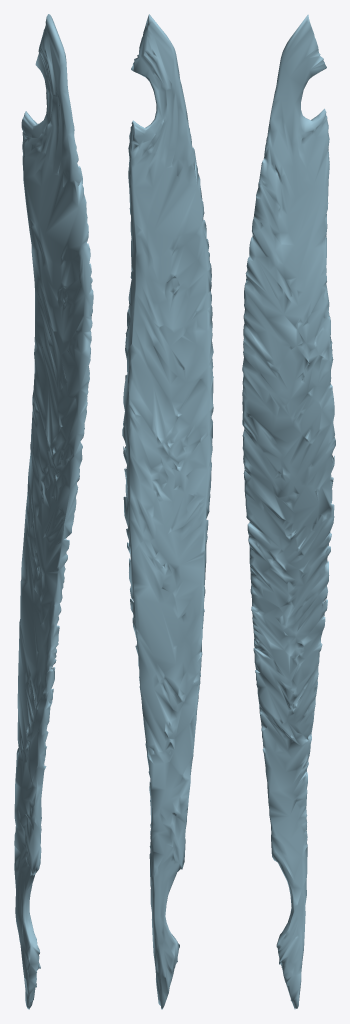
The model's file is articulacoes-interosseous-membrane-of-leg-l.glb.
3 views of the same model, side by side, from view 1: azimuth 90°, elevation 25°; view 2: azimuth 150°, elevation 25°; view 3: azimuth 330°, elevation 25° (orthographic). The views are drawn at different scales.
Visible parts, largest first — view 1: Interosseous membrane of leg.l; view 2: Interosseous membrane of leg.l; view 3: Interosseous membrane of leg.l.
Part boxes in pixels (x1=…): Interosseous membrane of leg.l: x1=14, y1=14, x2=93, y2=1009; Interosseous membrane of leg.l: x1=122, y1=14, x2=213, y2=1009; Interosseous membrane of leg.l: x1=242, y1=14, x2=335, y2=1009.
Size of the model in its own units: 0.0225 by 0.2927 by 0.0214.
